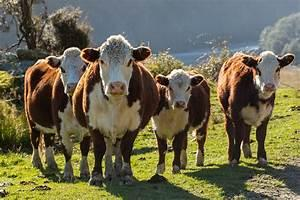cow: (71, 34, 160, 187), (23, 46, 91, 182), (216, 49, 294, 167), (151, 68, 210, 175)
